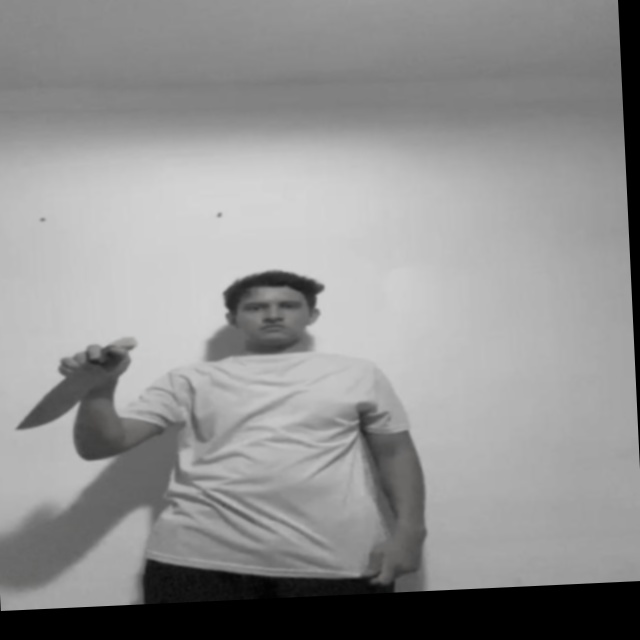Sharp-Object: (19, 362, 104, 429)
